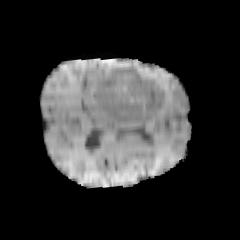glioma: (93, 66, 166, 120)
